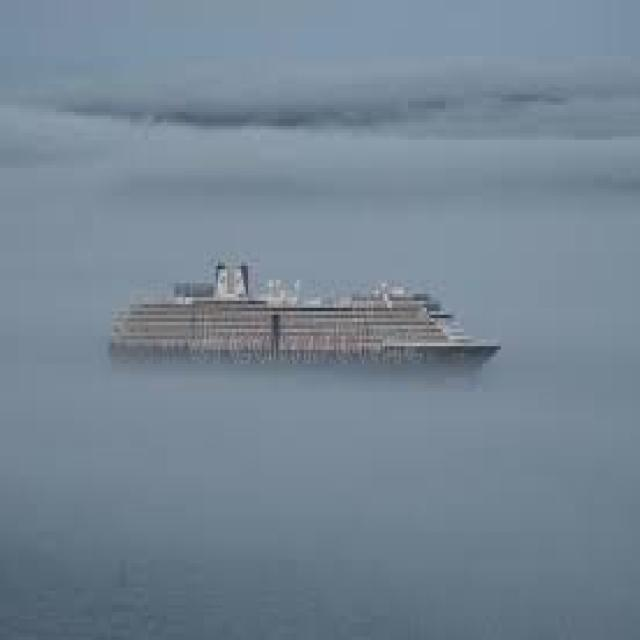passenger ship: (108, 252, 507, 386)
